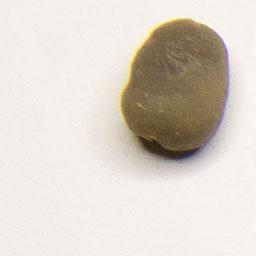peaberry: (118, 15, 233, 157)
